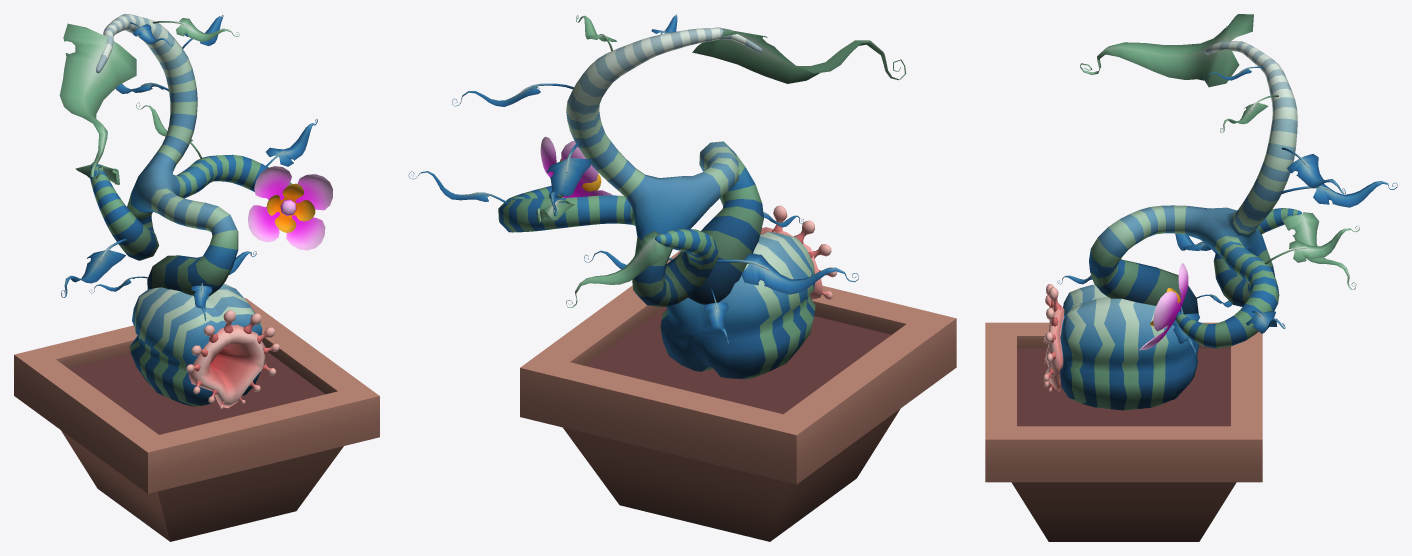
Rendered from wp_wPot_5.fbx.
3 views of the same model, side by side, from view 1: azimuth 30°, elevation 25°; view 2: azimuth 150°, elevation 25°; view 3: azimuth 270°, elevation 25° (orthographic). The views are drawn at different scales.
Visible parts, largest first — view 1: w_pl5; view 2: w_pl5; view 3: w_pl5.
Boxes of the visible parts, x1,y1,x2,y2 form: w_pl5: (14,14,379,541); w_pl5: (408,14,956,541); w_pl5: (985,14,1397,541).
Bounding box in the file's own units: 152 × 203 × 164.
